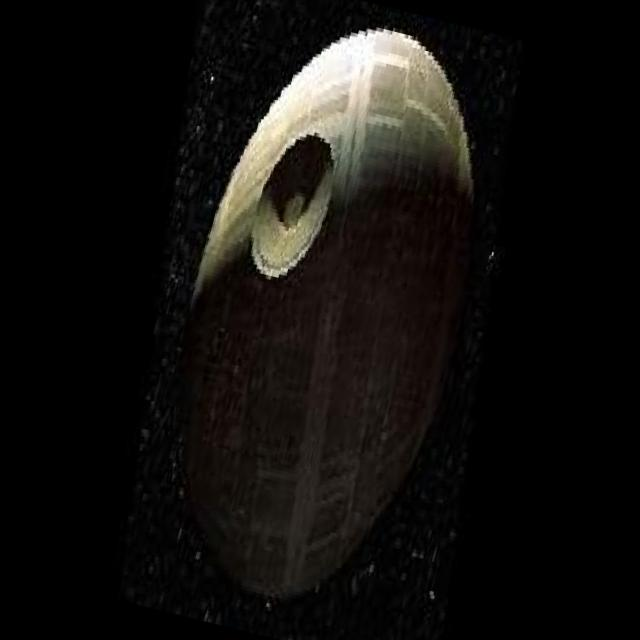Death Star: (123, 0, 522, 628)
